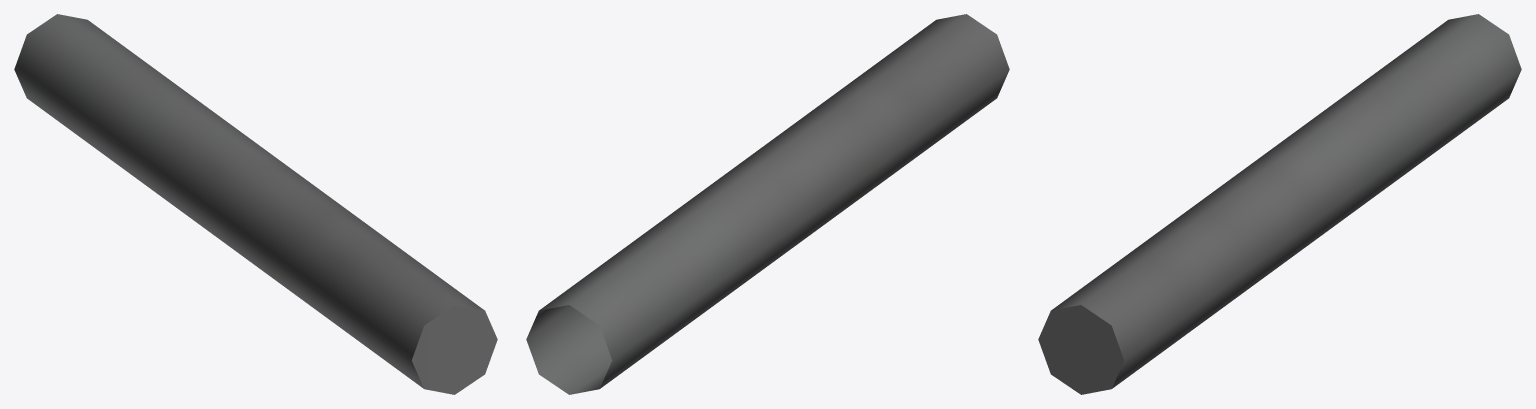
The model's file is 4mv_engine_s0_1_plower.obj.
3 views of the same model, side by side, from view 1: azimuth 30°, elevation 25°; view 2: azimuth 150°, elevation 25°; view 3: azimuth 330°, elevation 25° (orthographic).
Parts seen in each view (by area): view 1: mesh1; view 2: mesh1; view 3: mesh1.
Part boxes in pixels (x1=…): mesh1: x1=14, y1=14, x2=497, y2=394; mesh1: x1=526, y1=14, x2=1009, y2=394; mesh1: x1=1038, y1=14, x2=1521, y2=394.
Bounding box in the file's own units: 0.0125 × 0.0125 × 0.1.
1 material, 1 textured.
